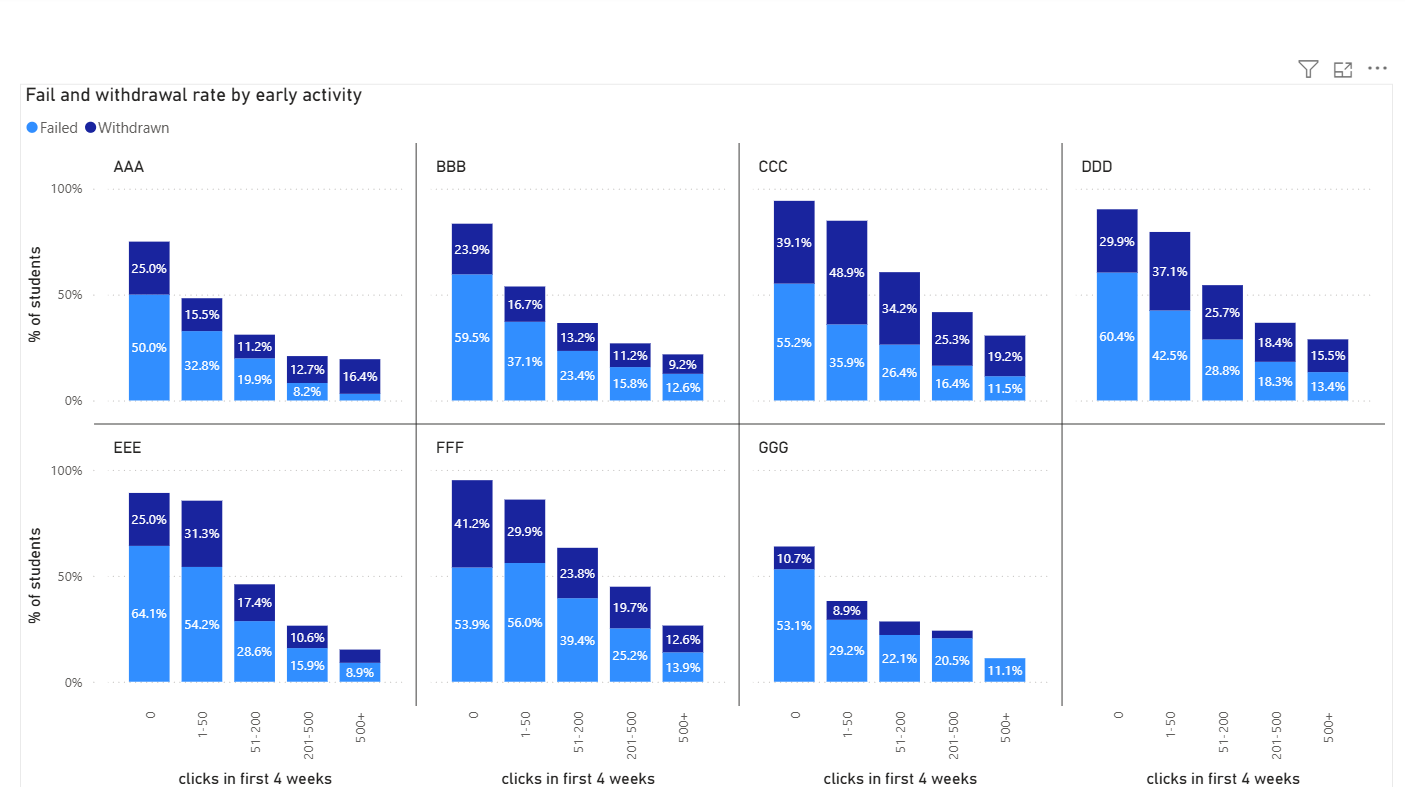

This screenshot's page, from the dashboard's own definition file:
{"tool":"powerbi","page":{"name":"Strana 1","canvas":[1280,720],"ordinal":0},"visuals":[{"type":"columnChart","title":"Fail and withdrawal rate by early activity ","fields":{"Category":["activity_groups_by_module.activity_group"],"Y":["activity_groups_by_module.Fail rate","activity_groups_by_module.Withdrawn rate"],"Rows":["activity_groups_by_module.code_module"]},"box":[22.8,79.8,1238,640.2],"z":0}]}

Visuals, with their boxes in screenshot pixels (x1, y1, x2, y2), scaled from the page's 1280x720 canvas onto the 1405x787 screenshot:
"Fail and withdrawal rate by early activity " columnChart: BBox(25, 87, 1384, 786)
